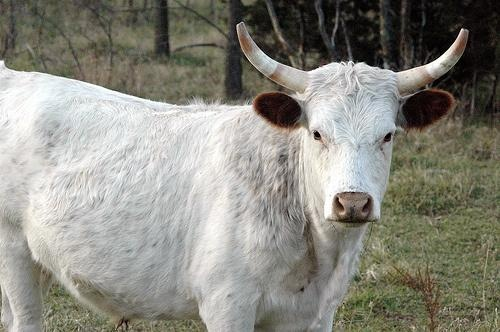cow: (1, 30, 470, 332)
